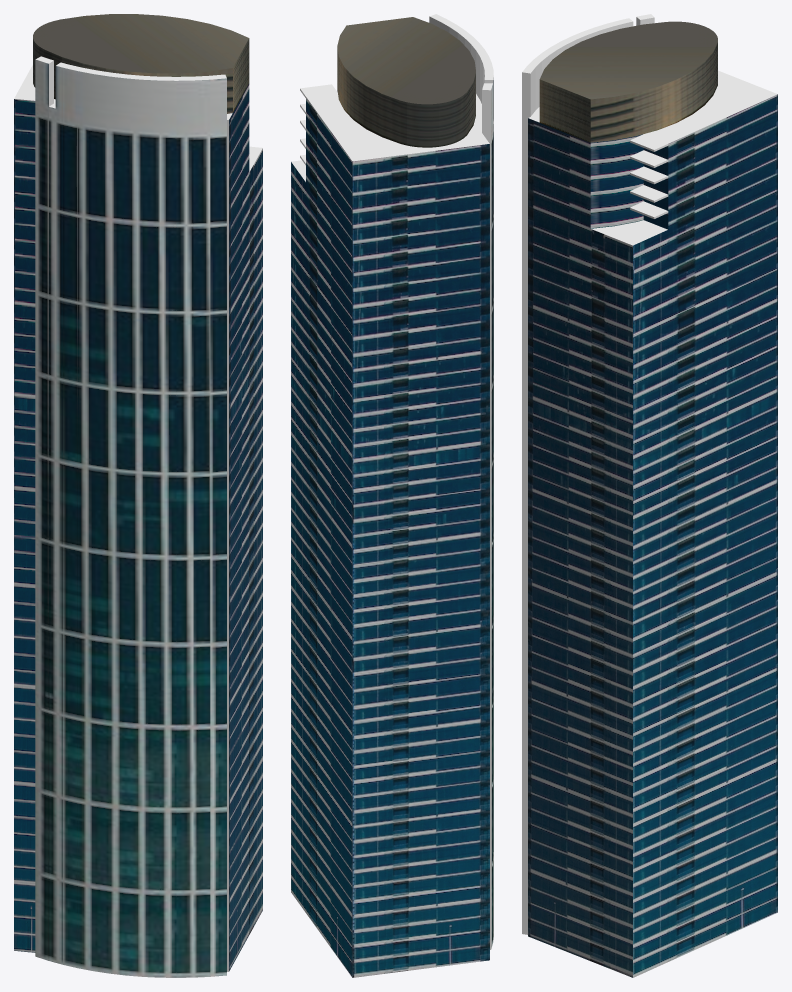
Rendered from onerinconhill.fbx.
3 views of the same model, side by side, from view 1: azimuth 30°, elevation 25°; view 2: azimuth 150°, elevation 25°; view 3: azimuth 270°, elevation 25° (orthographic). The views are drawn at different scales.
Parts seen in each view (by area): view 1: Group4, Group2, Group1; view 2: Group2, Group1, Group4; view 3: Group2, Group1, Group4.
Part boxes in pixels (left/top/right/bottom): Group4: left=35, top=56, right=226, bottom=977; Group2: left=14, top=65, right=262, bottom=971; Group1: left=33, top=14, right=249, bottom=113; Group2: left=291, top=84, right=489, bottom=977; Group1: left=337, top=17, right=475, bottom=147; Group4: left=429, top=14, right=493, bottom=949; Group2: left=528, top=70, right=777, bottom=977; Group1: left=539, top=21, right=717, bottom=142; Group4: left=522, top=14, right=654, bottom=934.
Bounding box in the file's own units: 2060 × 7740 × 2083.
